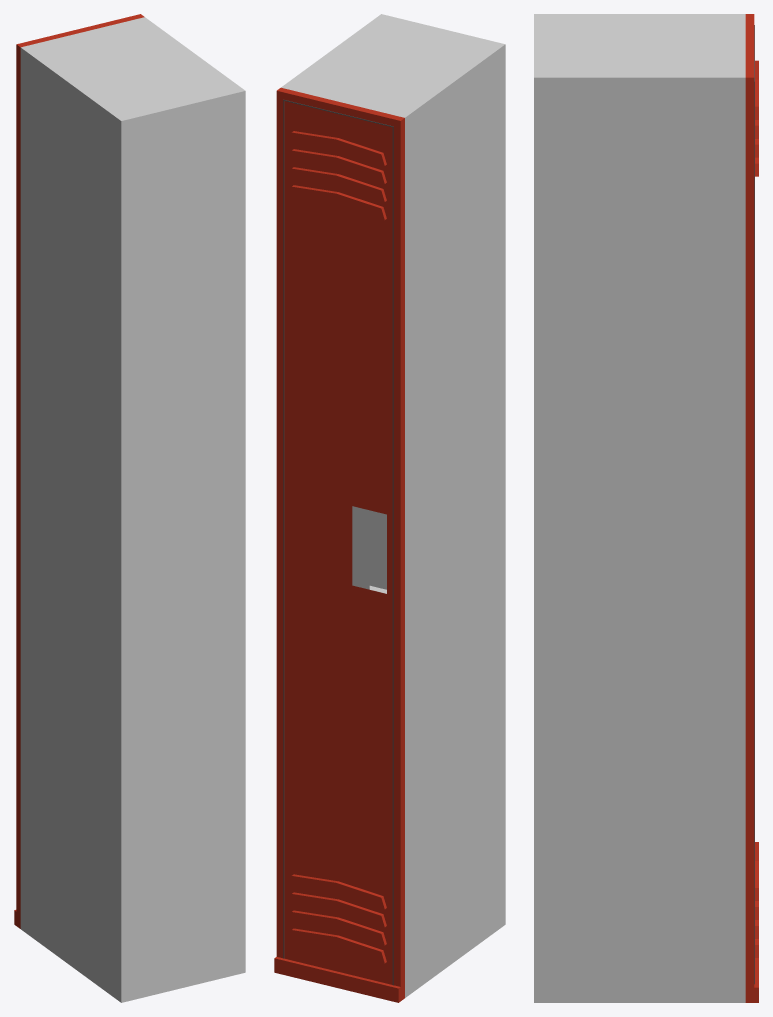
Rendered from locker_b_one.fbx.
The picture shows the model from 3 angles, left to right: view 1: azimuth 30°, elevation 25°; view 2: azimuth 150°, elevation 25°; view 3: azimuth 270°, elevation 25°; orthographic projection. The views are drawn at different scales.
Parts seen in each view (by area): view 1: Cube, 2:1; view 2: Cube, 2:1, 1:1, Cube.001, 44:1, 7:1, 8:1, 11:1, 9:1, 12:1, 14:1, 10:1 (+1 smaller); view 3: Cube, 2:1, 1:1.
Part boxes in pixels (x1,y1,x2,y2): Cube: (20,17,245,1002); 2:1: (16,14,144,914); Cube: (281,14,505,997); 2:1: (276,87,404,986); 1:1: (283,99,393,985); Cube.001: (352,506,386,593); 44:1: (274,956,404,1002); 7:1: (288,928,386,963); 8:1: (288,910,386,945); 11:1: (288,185,386,219); 9:1: (288,892,386,927); 12:1: (288,167,386,201); 14:1: (288,131,386,165); 10:1: (288,874,386,909); Cube: (534,14,745,1002); 2:1: (745,14,754,987); 1:1: (754,25,754,984).
Bounding box in the file's own units: 22.86 × 155 × 34.1.
